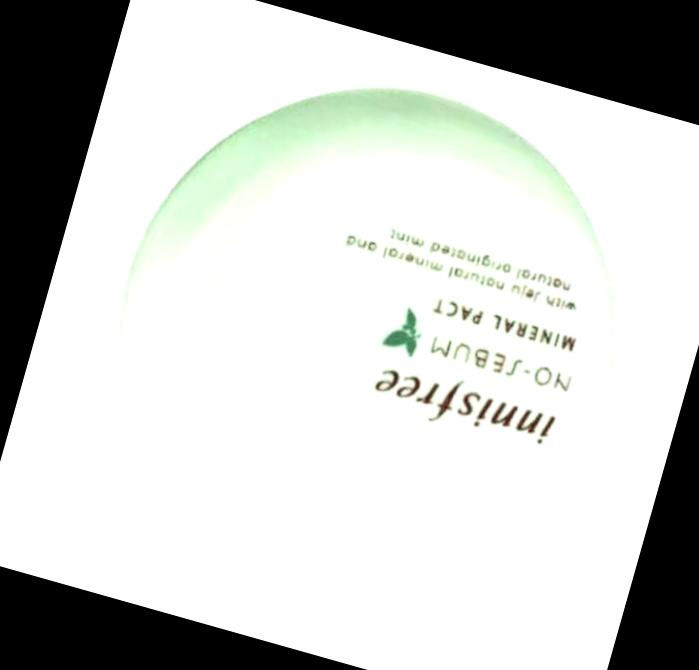cosmetic: (53, 23, 679, 659)
